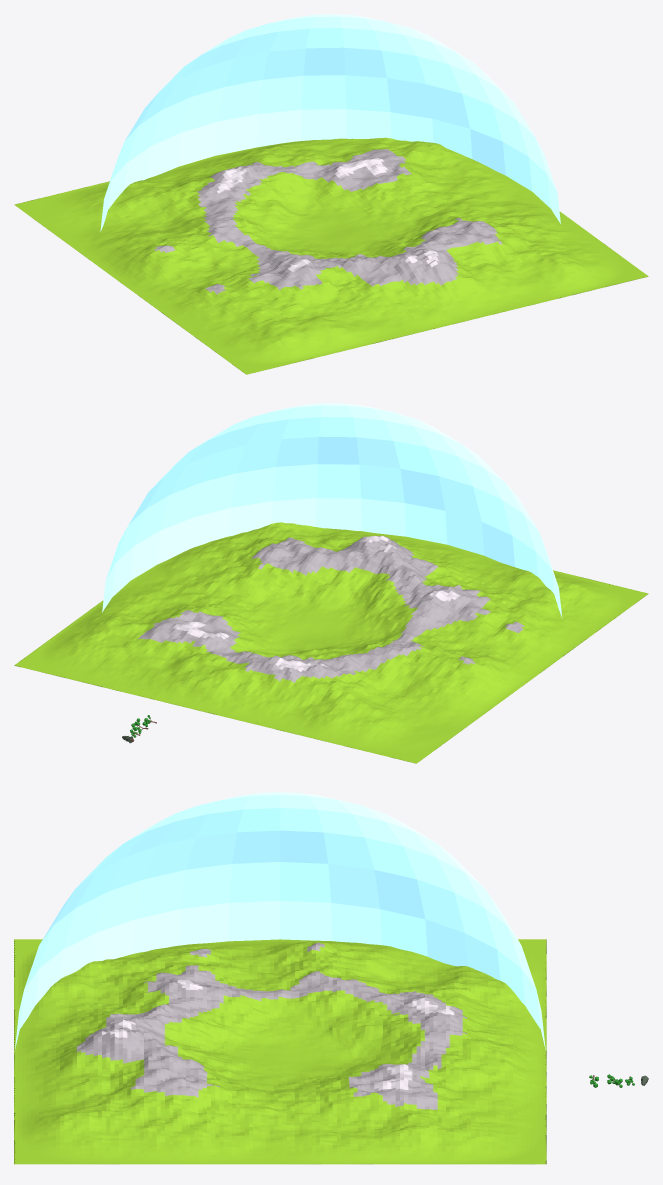
File: valley_landscape_lessflat1.glb
The picture shows the model from 3 angles, top to bottom: view 1: azimuth 30°, elevation 25°; view 2: azimuth 150°, elevation 25°; view 3: azimuth 270°, elevation 25°; orthographic projection. The views are drawn at different scales.
Parts seen in each view (by area): view 1: Landscape.004, Sphere; view 2: Landscape.004, Sphere; view 3: Landscape.004, Sphere.
Boxes of the visible parts, box(x1,y1,x2,y2) form: Landscape.004: box(14, 137, 648, 374); Sphere: box(100, 14, 560, 231); Landscape.004: box(14, 522, 648, 763); Sphere: box(102, 403, 562, 618); Landscape.004: box(14, 939, 546, 1164); Sphere: box(15, 792, 545, 1049).
Bounding box in the file's own units: 10 × 5.05 × 11.92.
Materials: 10 (1 with a texture image).
